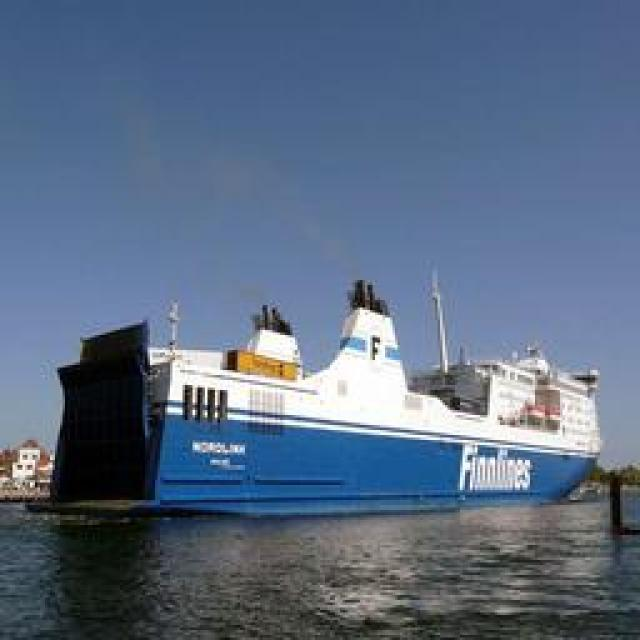CIV_Ship: (41, 272, 596, 522)
